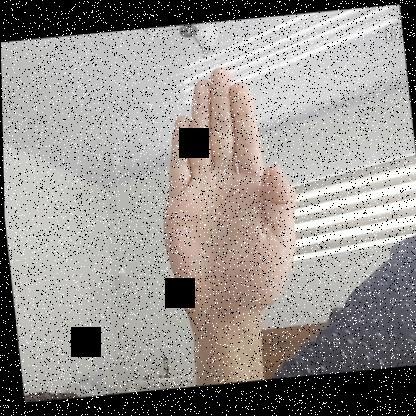B: (144, 61, 308, 323)
